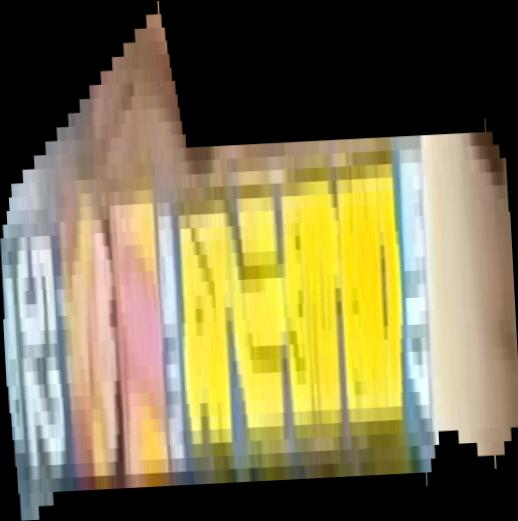flat: (1, 1, 518, 521)
